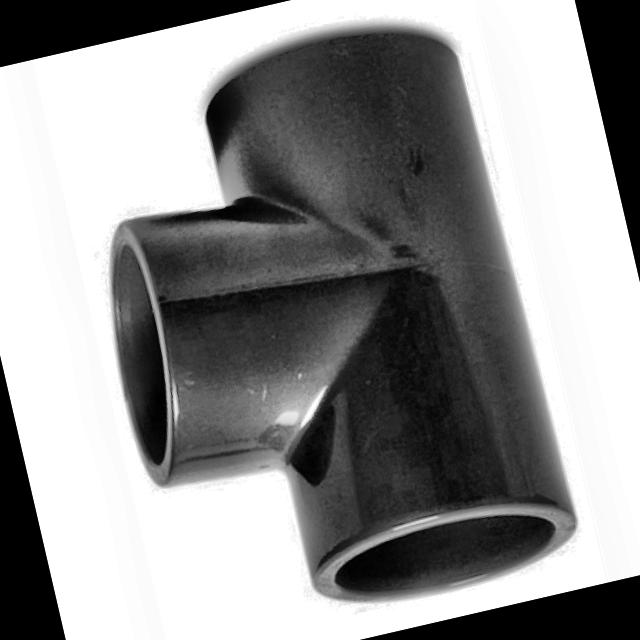EQUALTEE: (112, 26, 580, 601)
